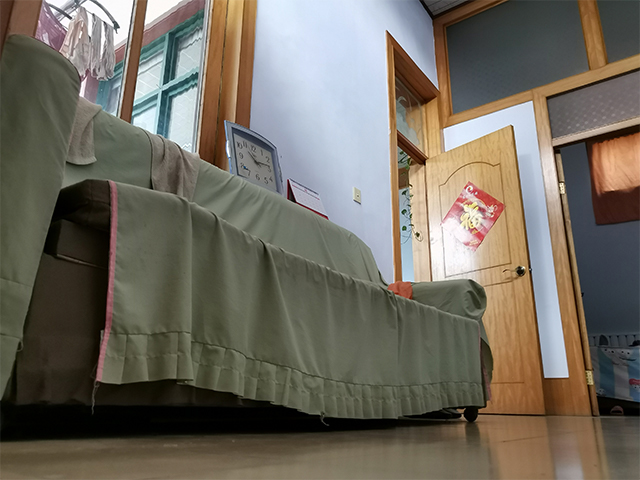bed: (584, 345, 640, 406)
slippers: (608, 404, 625, 417)
sofa: (1, 32, 495, 443)
